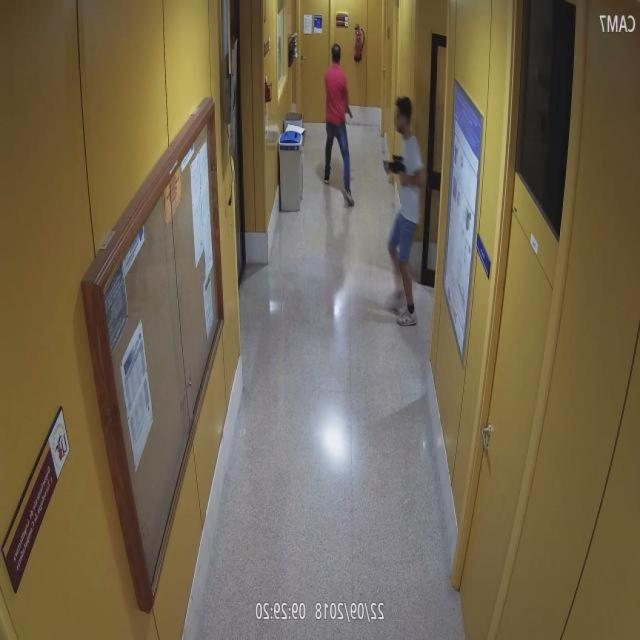pistol: (346, 104, 354, 118)
